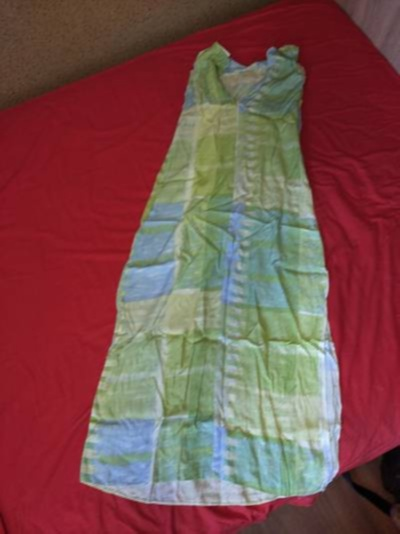Dress: (51, 26, 373, 519)
